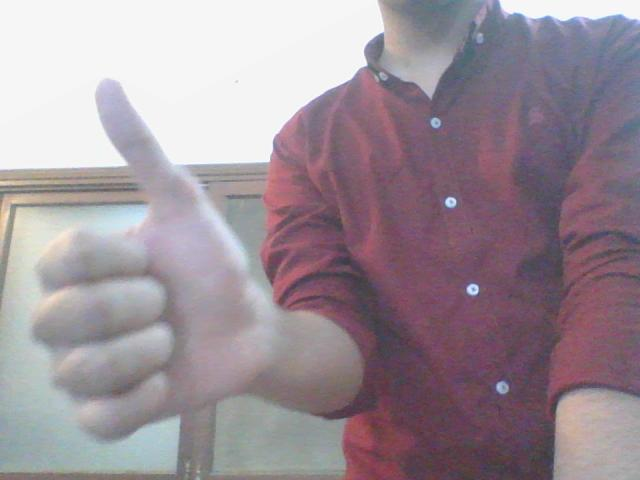thumbs-up: (31, 71, 256, 436)
